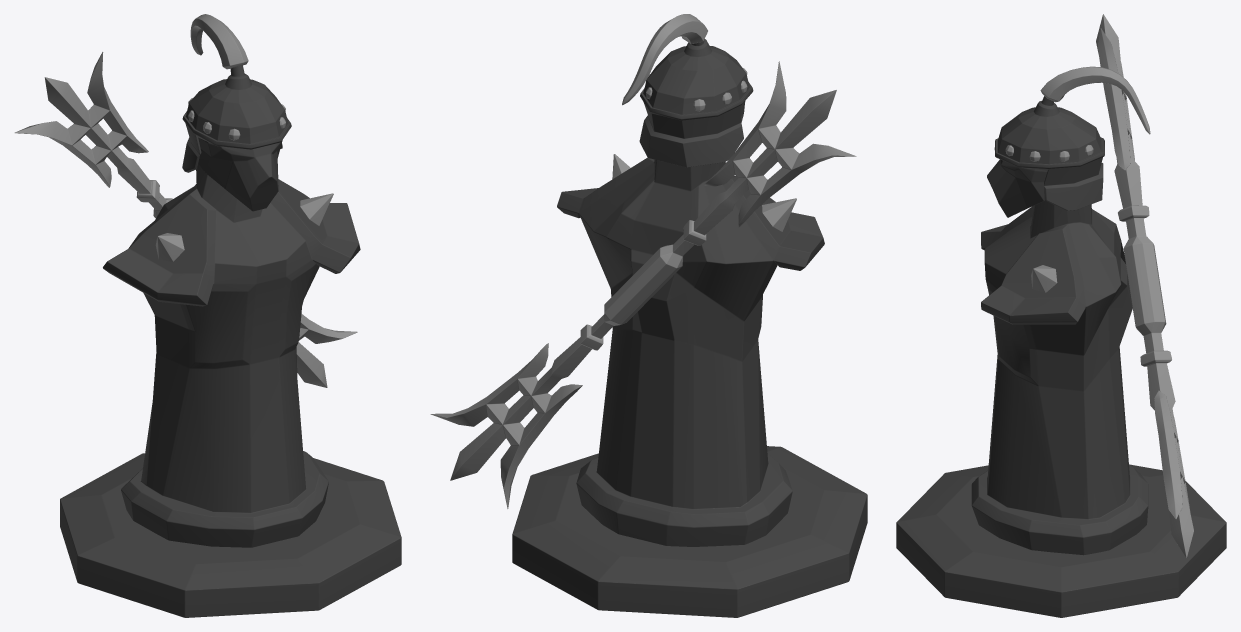
The model's file is samuray_k_b.glb.
3 views of the same model, side by side, from view 1: azimuth 30°, elevation 25°; view 2: azimuth 150°, elevation 25°; view 3: azimuth 270°, elevation 25° (orthographic). The views are drawn at different scales.
Parts seen in each view (by area): view 1: b_F; view 2: b_F; view 3: b_F.
Part boxes in pixels (<box>): b_F: <box>14,14,401,617</box>; b_F: <box>430,14,867,617</box>; b_F: <box>896,14,1226,617</box>.
Bounding box in the file's own units: 2.03 × 2.69 × 1.65.
1 material, 1 textured.
